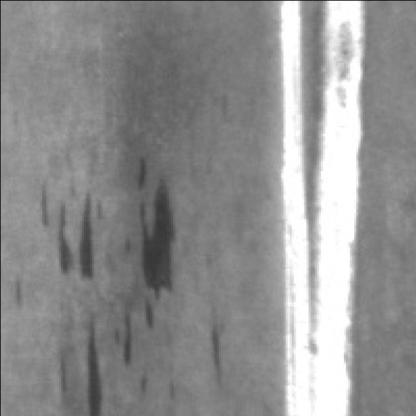inclusion: (127, 177, 175, 314), (35, 191, 92, 285), (77, 316, 119, 416), (197, 314, 223, 383)
scratches: (273, 4, 368, 416)
